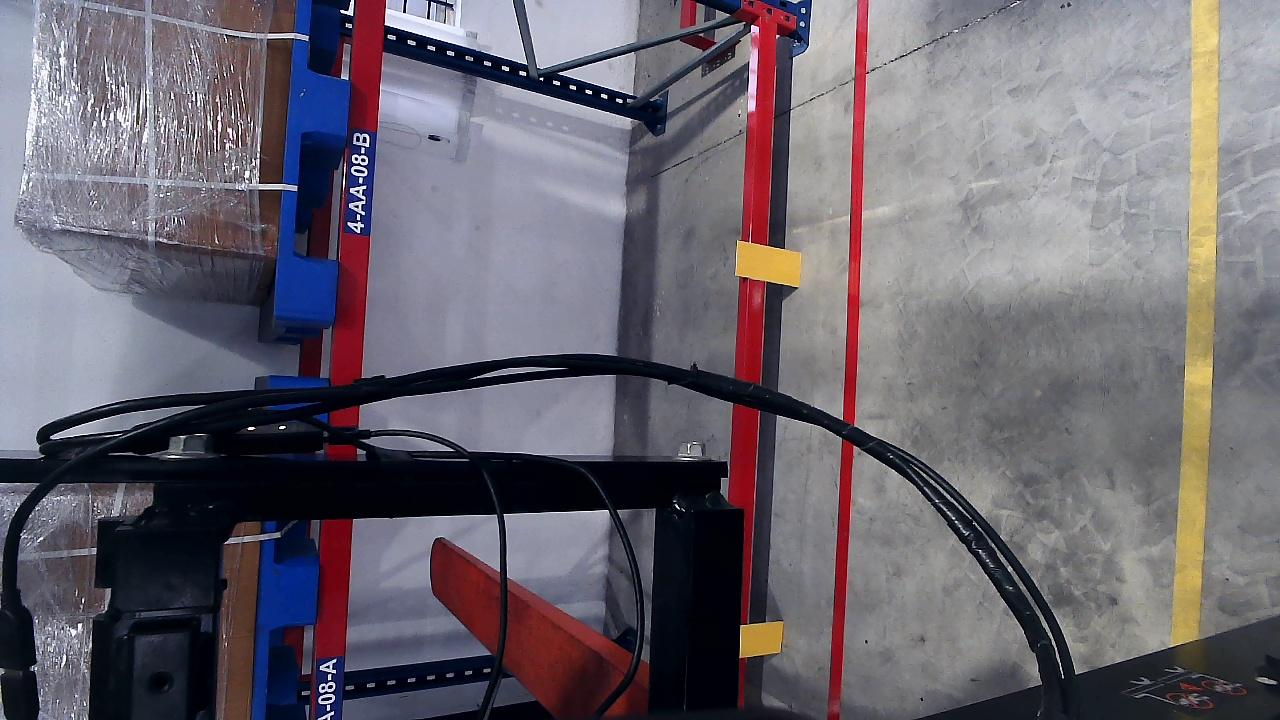h_rack: (330, 1, 388, 385), (737, 16, 780, 381), (311, 437, 359, 718)
orange_strip: (735, 241, 801, 287), (738, 621, 784, 659)
red_line: (837, 7, 866, 602)
small_pallet: (268, 0, 362, 316)
yellow_line: (1172, 61, 1221, 651)
